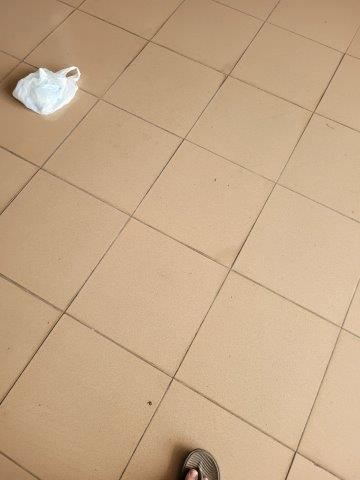plastik: (10, 65, 82, 118)
